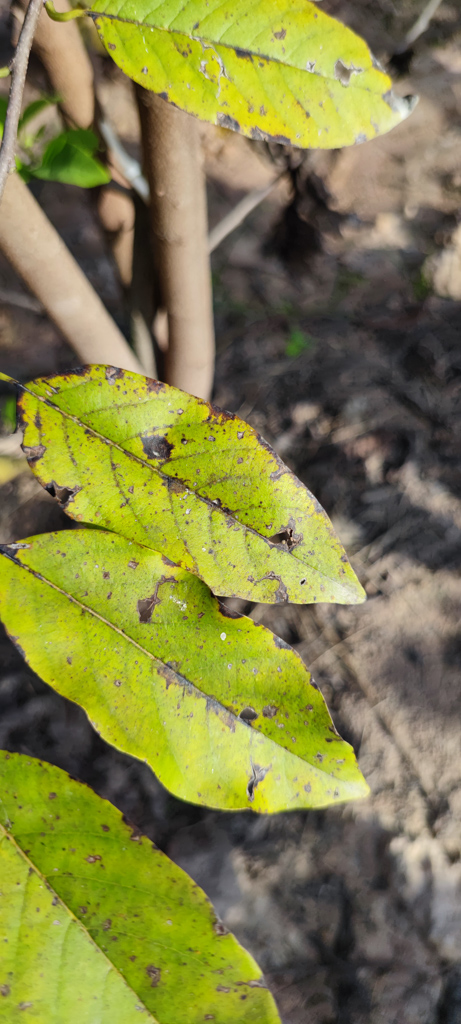Pepper yellow leaf: (6, 525, 375, 818), (9, 360, 372, 609), (5, 750, 282, 1019), (76, 2, 423, 154)
